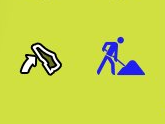ACCELERATOR: (10, 34, 68, 80)
CONSTRUCTION: (91, 30, 151, 80)
